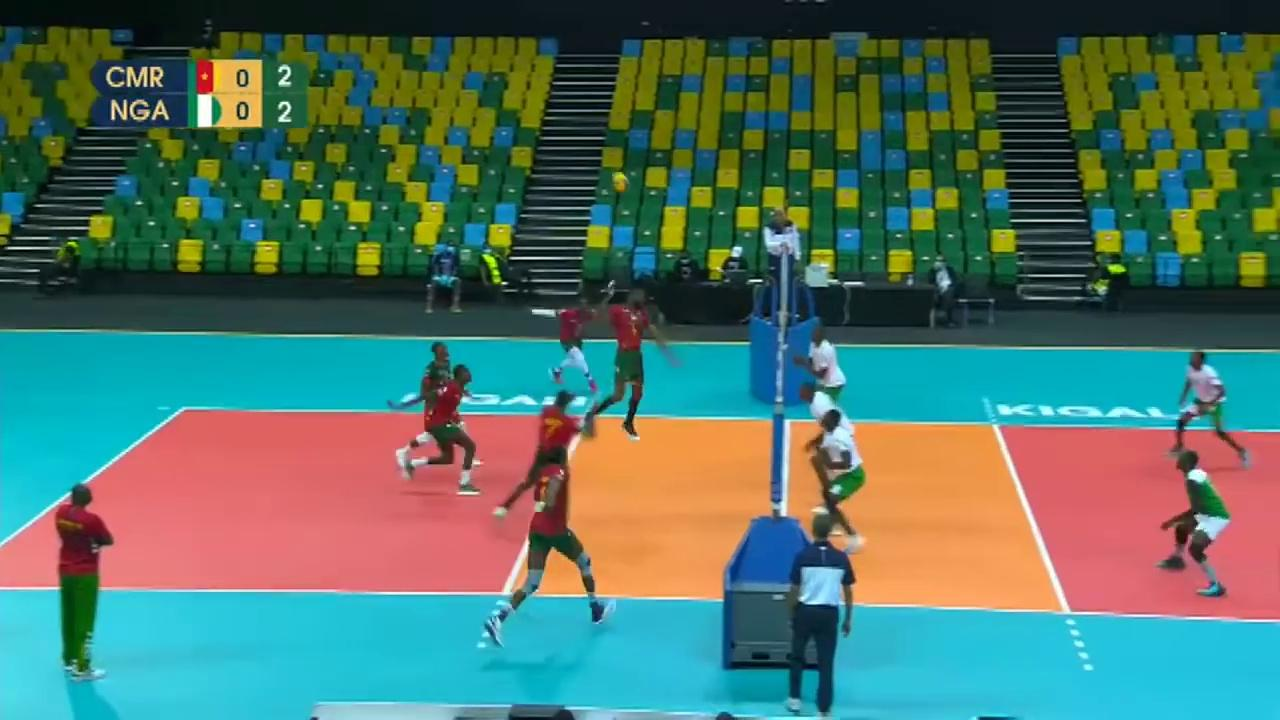player: (489, 449, 613, 641), (580, 289, 665, 437), (392, 366, 480, 496), (1157, 450, 1235, 595), (1165, 347, 1254, 471), (494, 389, 579, 517), (398, 341, 484, 467), (798, 380, 856, 519), (820, 409, 868, 559), (547, 285, 611, 391), (809, 332, 848, 451)
refree: (783, 512, 853, 720), (760, 206, 802, 297)
